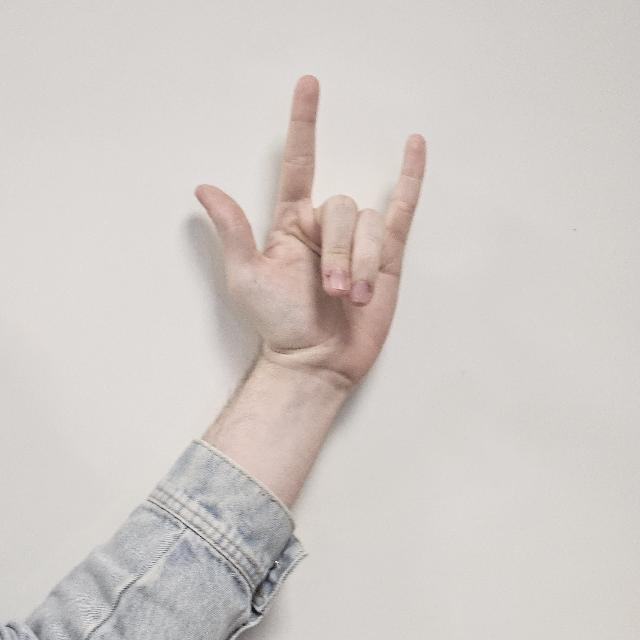Cima: (196, 76, 424, 370)
